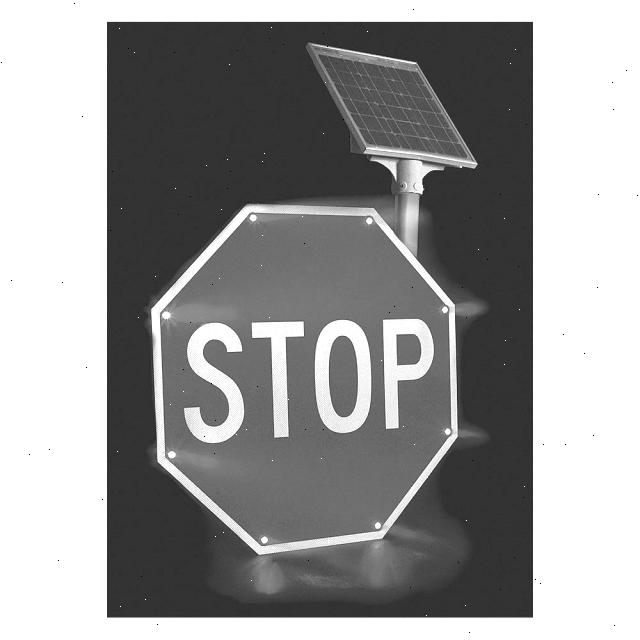Stop-sign: (138, 194, 472, 570)
